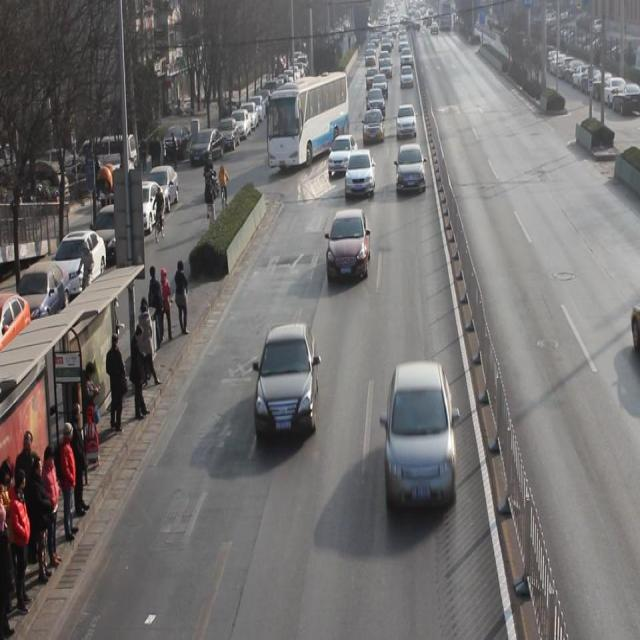car: (385, 364, 458, 512), (256, 324, 320, 443), (327, 210, 372, 283), (345, 149, 376, 203), (396, 144, 428, 196), (328, 134, 359, 180), (396, 103, 418, 142), (363, 110, 386, 145), (366, 88, 386, 120)
van: (268, 74, 350, 167)
